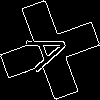A: (25, 25, 80, 74)
